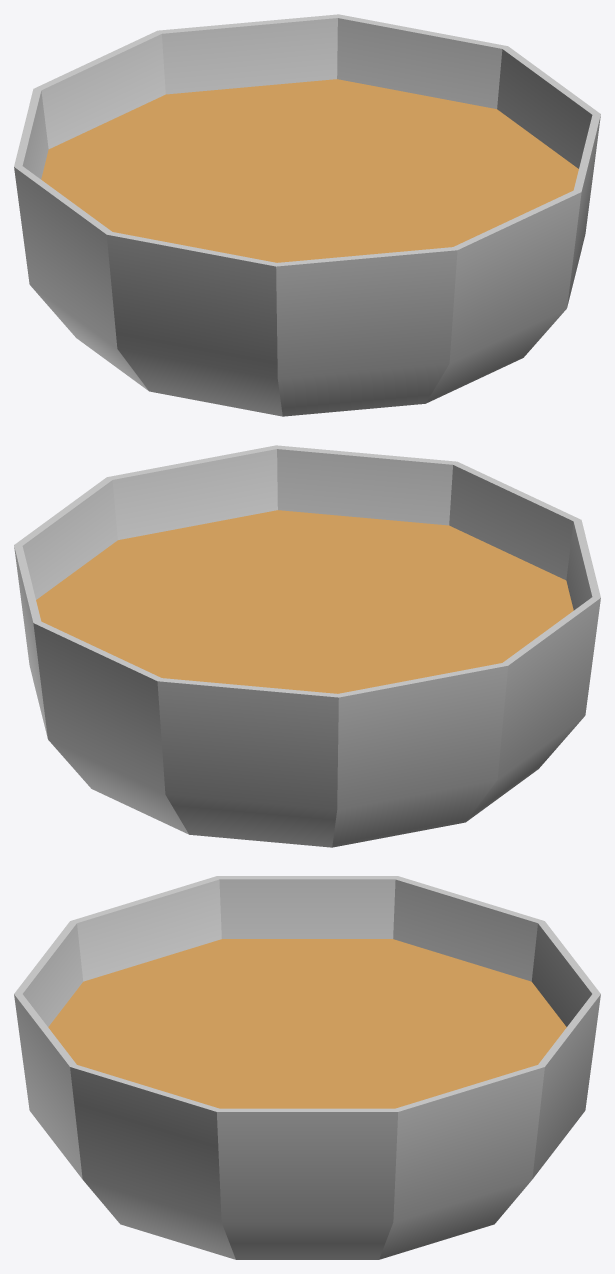
Rendered from SoupBowl.fbx.
The picture shows the model from 3 angles, top to bottom: view 1: azimuth 30°, elevation 25°; view 2: azimuth 150°, elevation 25°; view 3: azimuth 270°, elevation 25°; orthographic projection. The views are drawn at different scales.
Visible parts, largest first — view 1: Bowl, Soup; view 2: Bowl, Soup; view 3: Bowl, Soup.
Part boxes in pixels (<box>): Bowl: <box>14,14,600,416</box>; Soup: <box>41,79,578,262</box>; Bowl: <box>14,445,600,847</box>; Soup: <box>36,510,573,693</box>; Bowl: <box>14,876,600,1259</box>; Soup: <box>48,939,566,1108</box>.
Size of the model in its own units: 20.51 by 8.54 by 21.57.
